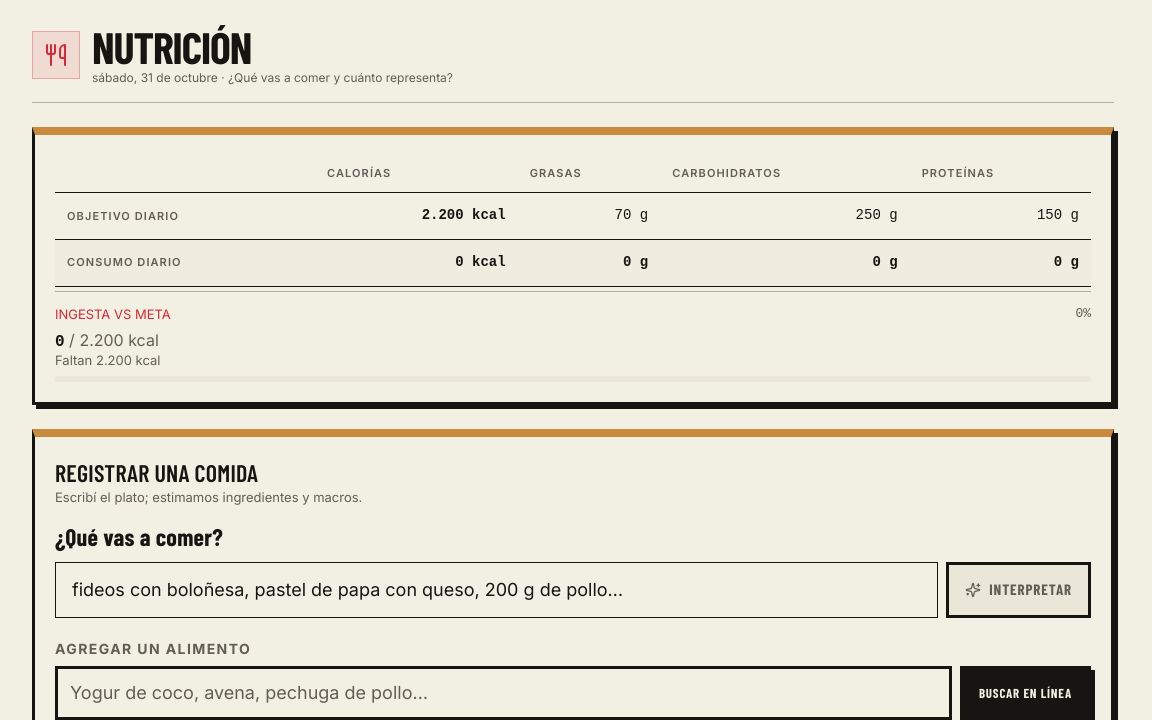
Test case: Nutrición — aceptación funcional (flujo real) › 3) buscar “leche” muestra opciones por tipo y en mililitros
Type "leche" into the field named "Buscar alimento" at (503, 693), box [55,666,952,719]
(page scrolled)
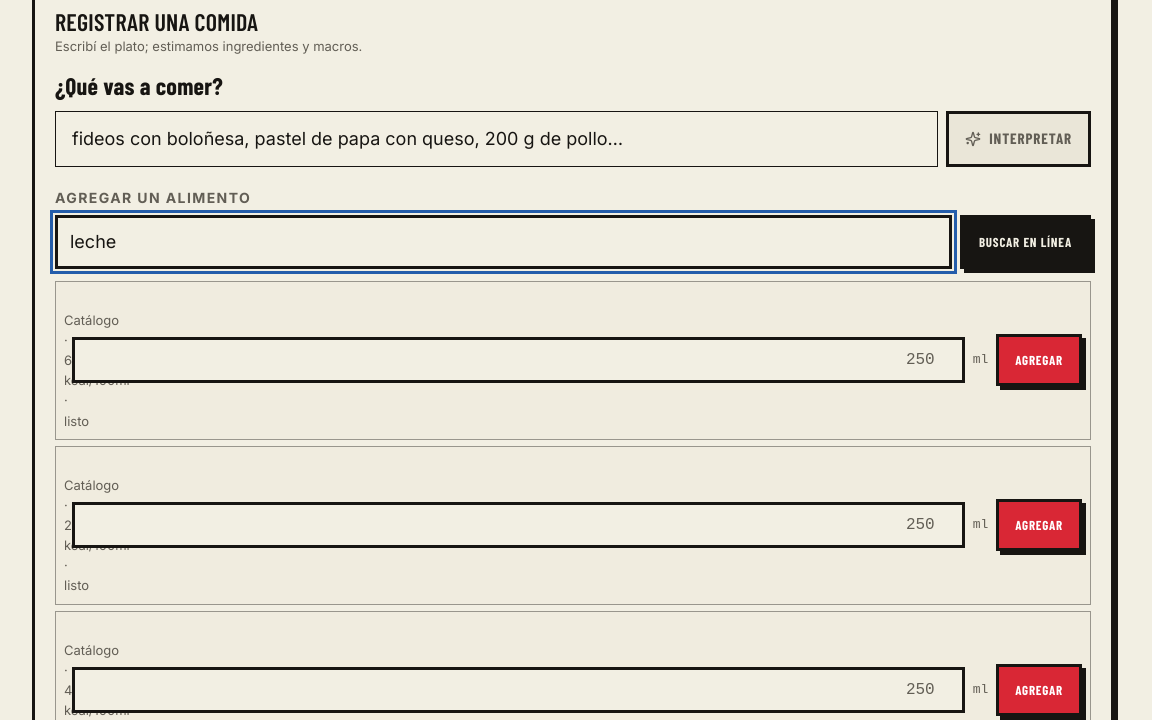
Expected: the number field named "Cantidad en ml de Leche entera" is shown, [72,337,965,383]
